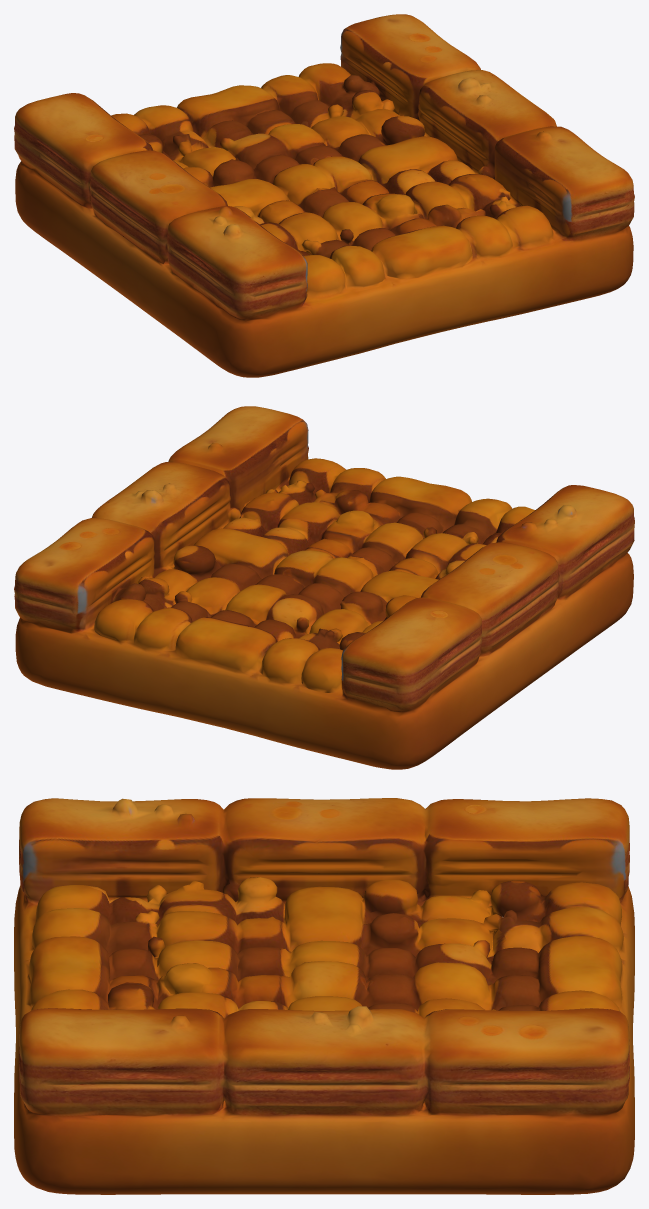
The model's file is prop-pastry-dessert.glb.
3 renders of one model, top to bottom at view 1: azimuth 30°, elevation 25°; view 2: azimuth 150°, elevation 25°; view 3: azimuth 270°, elevation 25°, orthographic. The views are drawn at different scales.
Visible parts, largest first — view 1: tripo_node_cfae3d96-ca97-4f06-8674-036751da0768; view 2: tripo_node_cfae3d96-ca97-4f06-8674-036751da0768; view 3: tripo_node_cfae3d96-ca97-4f06-8674-036751da0768.
Boxes of the visible parts, bbox=[...] form: tripo_node_cfae3d96-ca97-4f06-8674-036751da0768: bbox=[14, 14, 634, 377]; tripo_node_cfae3d96-ca97-4f06-8674-036751da0768: bbox=[14, 406, 634, 769]; tripo_node_cfae3d96-ca97-4f06-8674-036751da0768: bbox=[14, 798, 634, 1194].
Size of the model in its own units: 1 by 0.3165 by 0.9994.
Materials: 1 (1 with a texture image).
